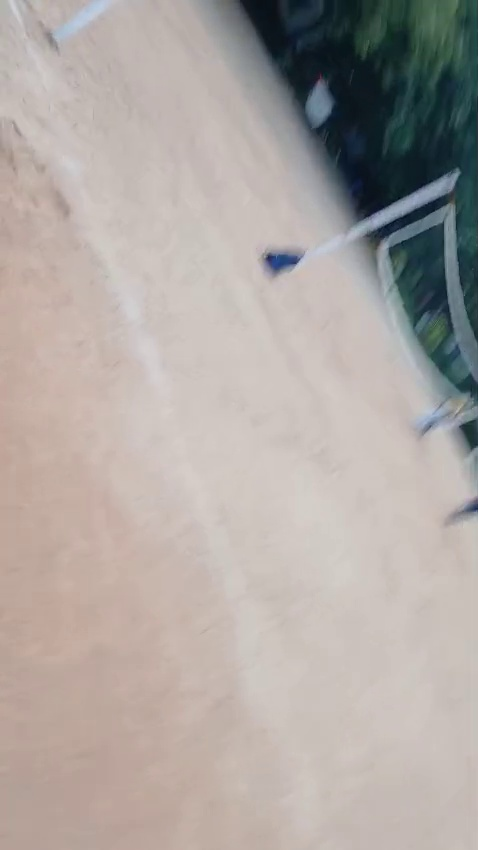bag: (250, 242, 315, 280)
